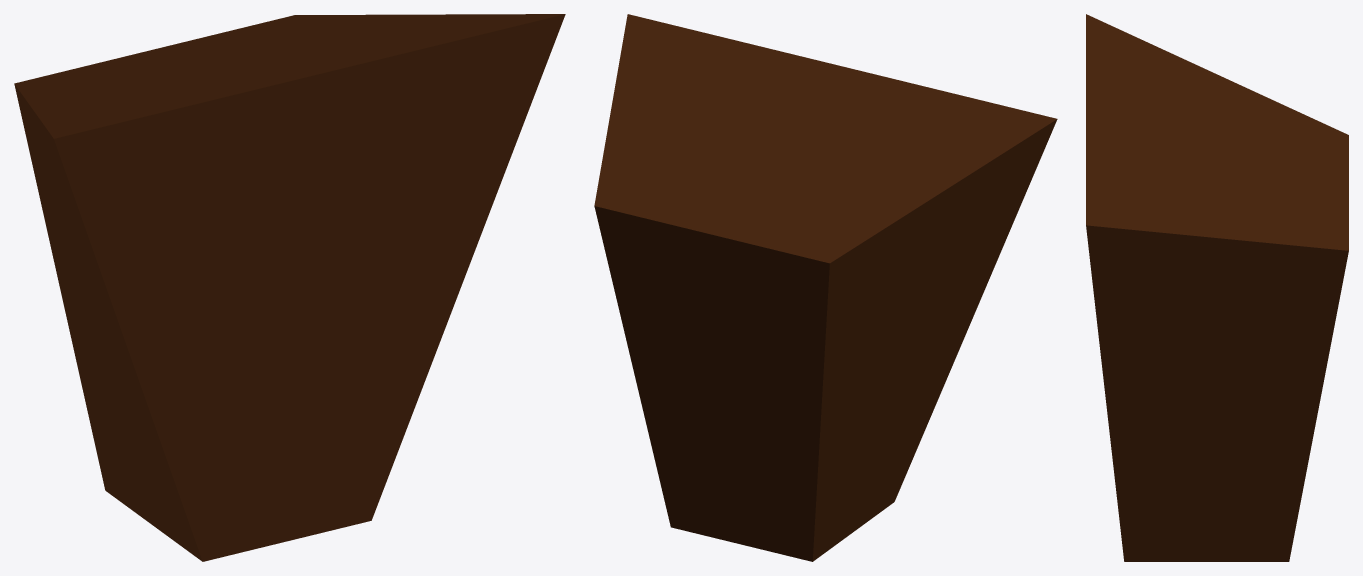
Rendered from lether_vest.glb.
3 renders of one model, left to right at view 1: azimuth 30°, elevation 25°; view 2: azimuth 150°, elevation 25°; view 3: azimuth 270°, elevation 25°, orthographic. The views are drawn at different scales.
Visible parts, largest first — view 1: leather_vest; view 2: leather_vest; view 3: leather_vest.
Boxes of the visible parts, x1,y1,x2,y2 form: leather_vest: (14,14,565,561); leather_vest: (594,14,1057,561); leather_vest: (1086,14,1348,561).
Size of the model in its own units: 0.4737 by 0.4257 by 0.249.
